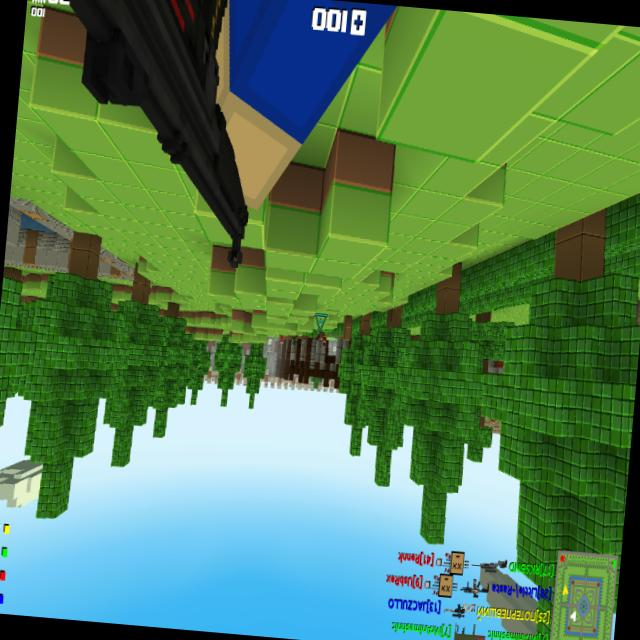enemy: (319, 332, 326, 347), (291, 336, 297, 346), (278, 334, 284, 344)
